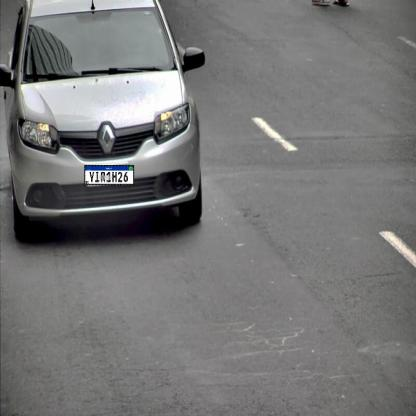PlacaM: (84, 165, 134, 185)
